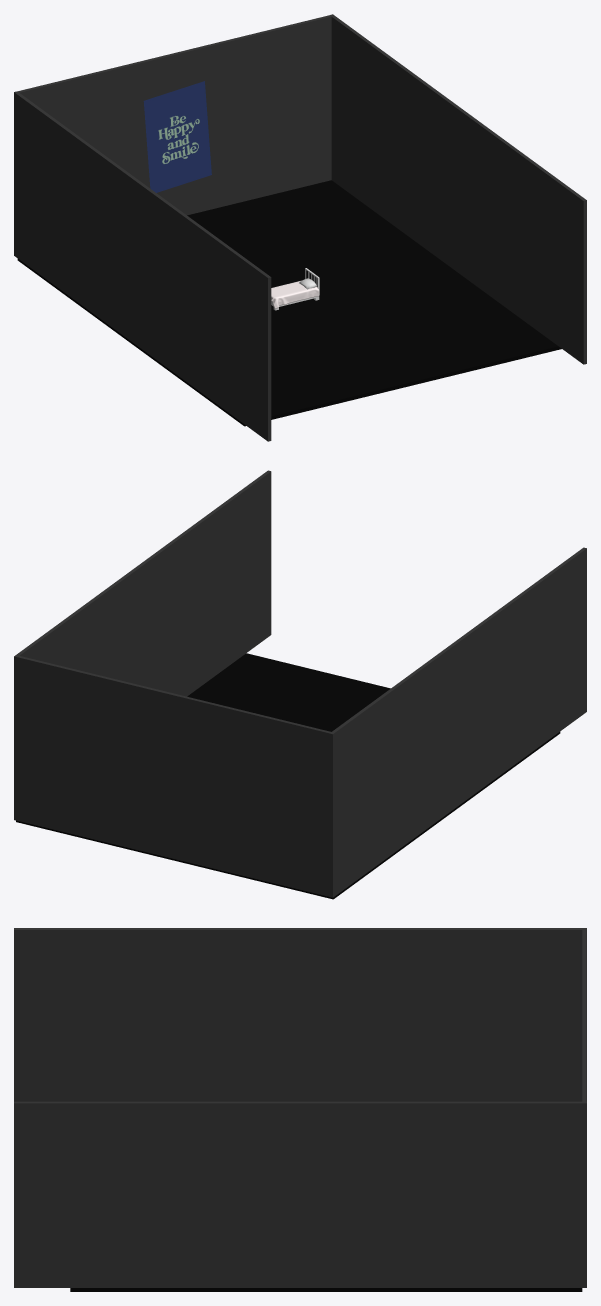
The model's file is ghostroom3.gltf.
3 renders of one model, top to bottom at view 1: azimuth 30°, elevation 25°; view 2: azimuth 150°, elevation 25°; view 3: azimuth 270°, elevation 25°, orthographic. The views are drawn at different scales.
Parts seen in each view (by area): view 1: Cube.004, Cube, Cube.005, Cube.003, happy poster, blanket; view 2: Cube.003, Cube.004, Cube.005, Cube; view 3: Cube.005, Cube.004, Cube, Cube.003.
Part boxes in pixels (x1=…): Cube.004: x1=14, y1=91, x2=271, y2=441; Cube: x1=17, y1=180, x2=561, y2=426; Cube.005: x1=330, y1=14, x2=586, y2=364; Cube.003: x1=18, y1=15, x2=331, y2=215; happy poster: x1=143, y1=81, x2=211, y2=192; blanket: x1=271, y1=280, x2=319, y2=308; Cube.003: x1=17, y1=656, x2=330, y2=896; Cube.004: x1=329, y1=547, x2=586, y2=897; Cube.005: x1=14, y1=470, x2=271, y2=820; Cube: x1=16, y1=653, x2=560, y2=899; Cube.005: x1=14, y1=1101, x2=586, y2=1287; Cube.004: x1=14, y1=928, x2=586, y2=1101; Cube: x1=70, y1=1288, x2=582, y2=1291; Cube.003: x1=582, y1=930, x2=586, y2=1101.
Bounding box in the file's own units: 13.86 × 6.94 × 19.12.
5 materials, 1 textured.
